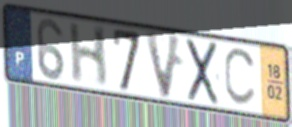6: (35, 16, 67, 84)
7: (112, 25, 142, 94)
C: (222, 47, 259, 109)
H: (67, 21, 109, 89)
V: (143, 28, 185, 103)
X: (185, 36, 221, 108)
